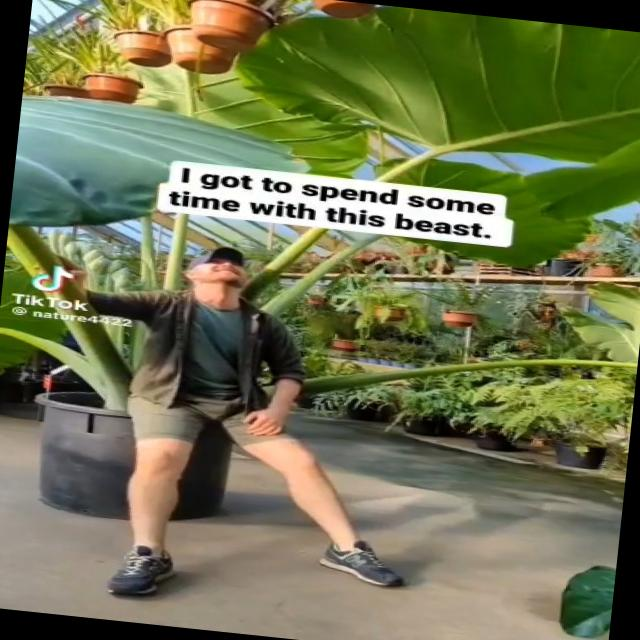roslina_zdrowa: (0, 6, 640, 401)
